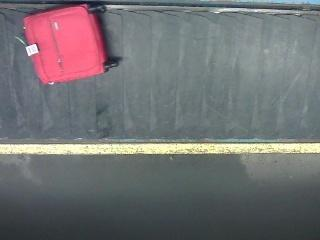Suitcase: (22, 4, 120, 86)
